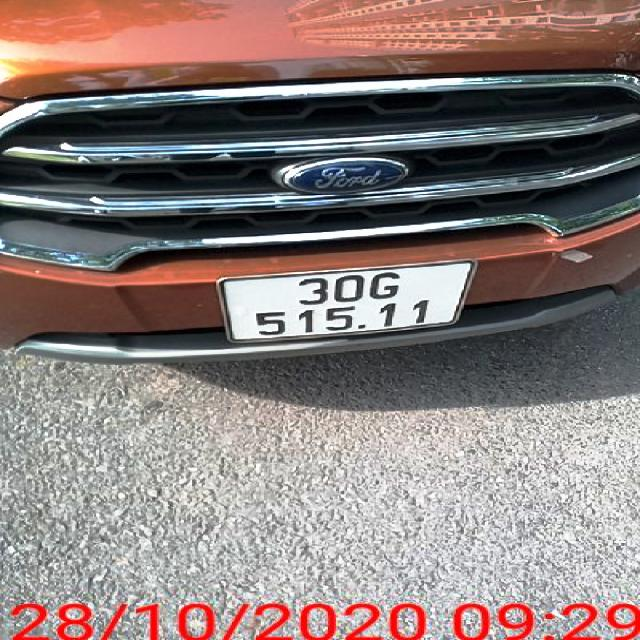license_plate: (225, 261, 478, 344)
